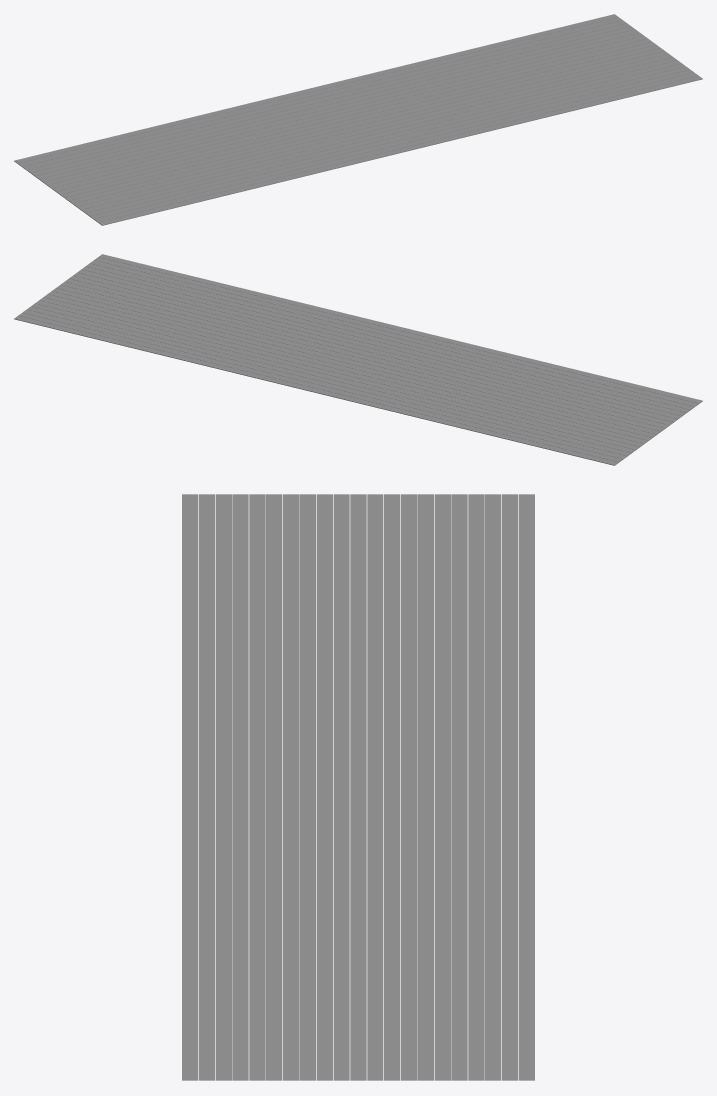
The model's file is Parquet_8.fbx.
3 views of the same model, one above another, from view 1: azimuth 30°, elevation 25°; view 2: azimuth 150°, elevation 25°; view 3: azimuth 270°, elevation 25° (orthographic). The views are drawn at different scales.
Parts seen in each view (by area): view 1: Parquet_8; view 2: Parquet_8; view 3: Parquet_8.
Part boxes in pixels (x1,y1,x2,y2): Parquet_8: (14, 14, 702, 225); Parquet_8: (14, 254, 702, 465); Parquet_8: (182, 494, 534, 1080).
Size of the model in its own units: 1765 by 449 by 1.62.
